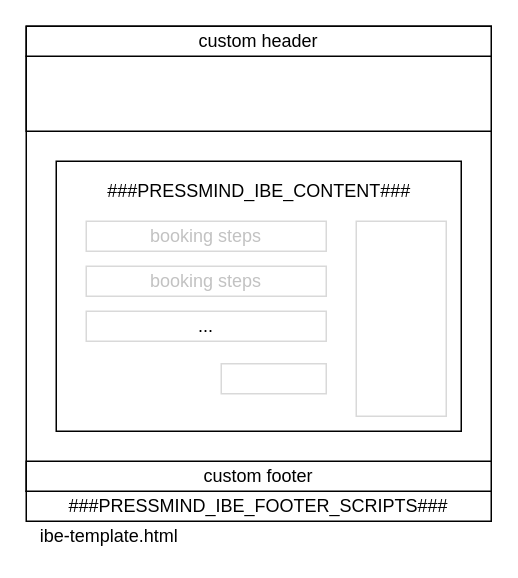
The diagram is 518 pixels wide and 578 high, and some of its shapes have lost their labels. Here are the shapes that lost their labels. From the top down, the box of each, then its label:
(25, 55, 491, 131): ###PRESSMIND_IBE_HEADER_CSS### ###PRESSMIND_IBE_HEADER_SCRIPTS###
(355, 220, 446, 416): booking summary
(220, 362, 326, 394): submit
